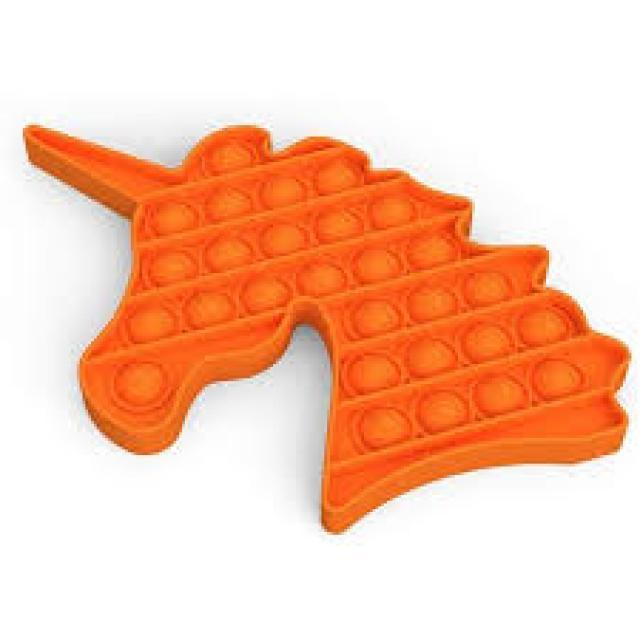hard-toy: (28, 127, 627, 530)
